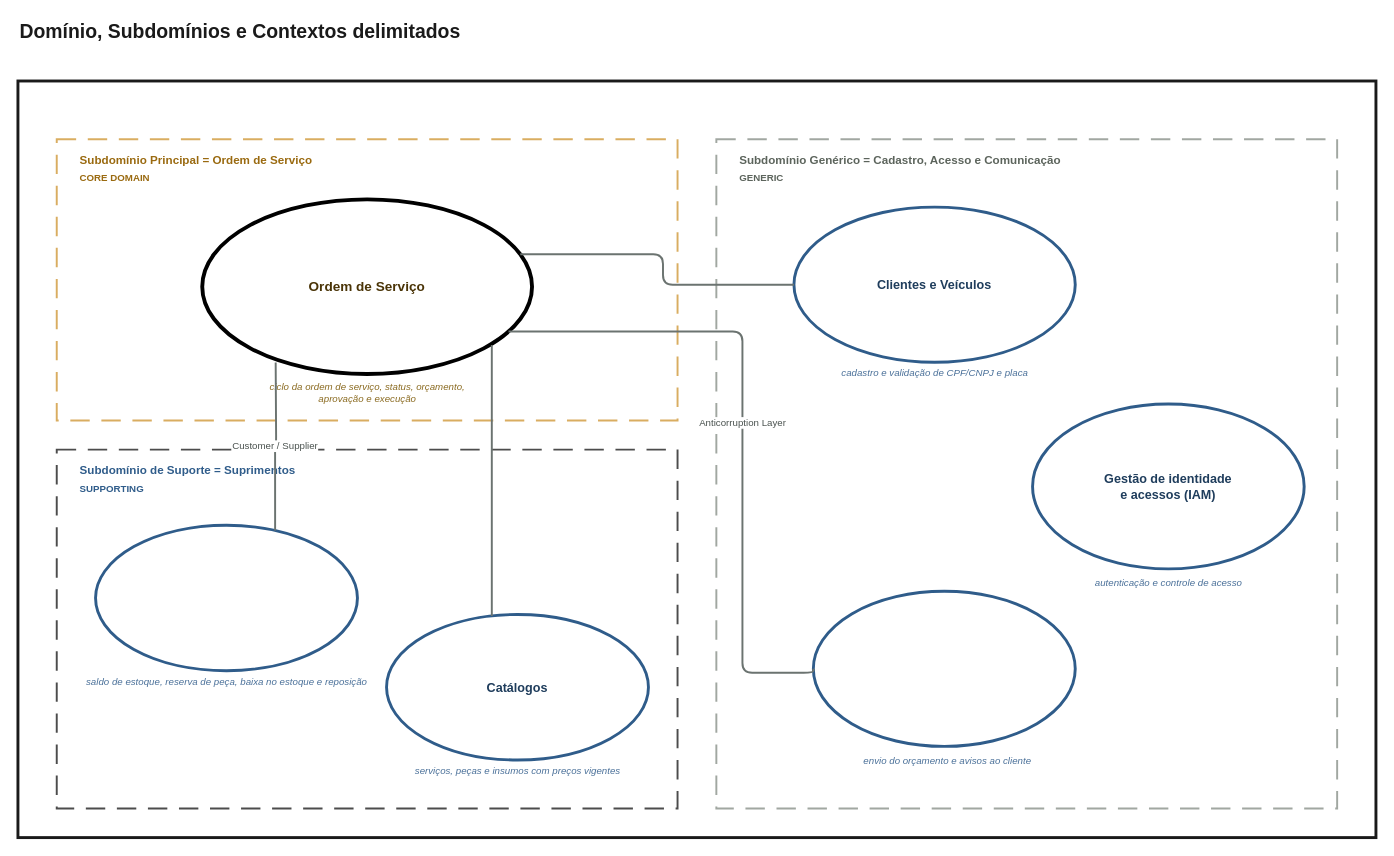
Image size: 1394x856. Some labels were removed from this diagram. The centre of each missing label's shape, as x and y in pixels:
Estoque: point (226, 597)
Notificação: point (943, 668)
